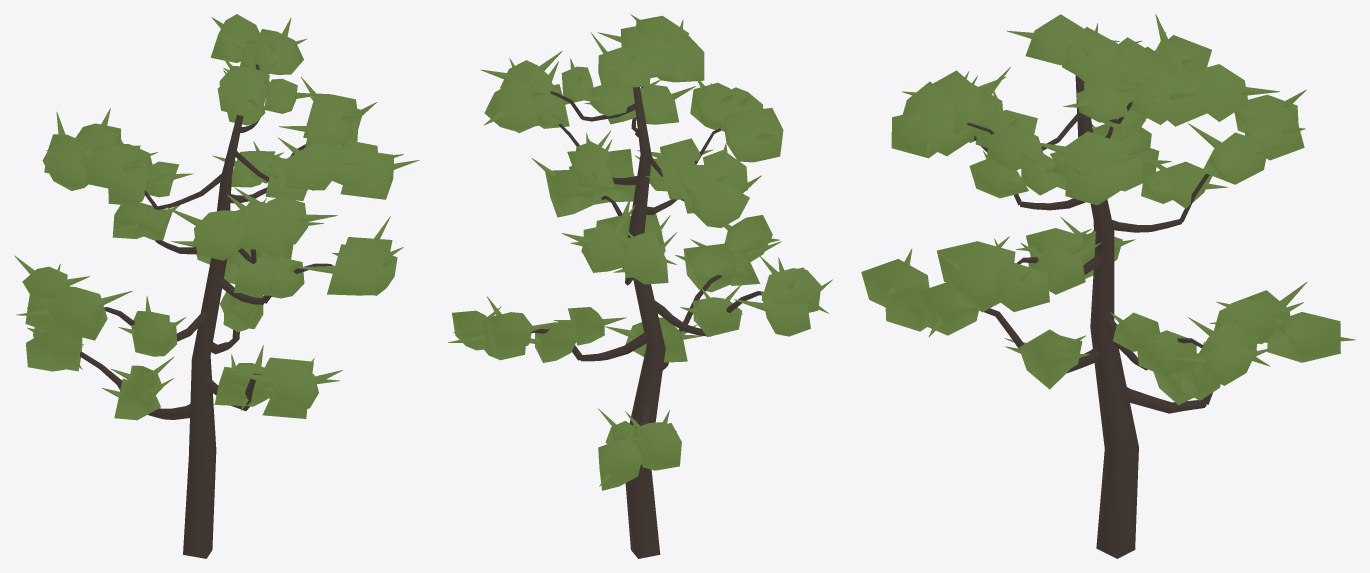
The model's file is Blender_PitchPine_1_Far.glb.
3 views of the same model, side by side, from view 1: azimuth 30°, elevation 25°; view 2: azimuth 150°, elevation 25°; view 3: azimuth 270°, elevation 25° (orthographic). The views are drawn at different scales.
Parts seen in each view (by area): view 1: Blender_PitchPine_1_Far; view 2: Blender_PitchPine_1_Far; view 3: Blender_PitchPine_1_Far.
Part boxes in pixels (x1=…): Blender_PitchPine_1_Far: x1=14, y1=14, x2=419, y2=558; Blender_PitchPine_1_Far: x1=448, y1=14, x2=832, y2=558; Blender_PitchPine_1_Far: x1=861, y1=14, x2=1355, y2=558.
Size of the model in its own units: 11.87 by 16.53 by 13.63.
